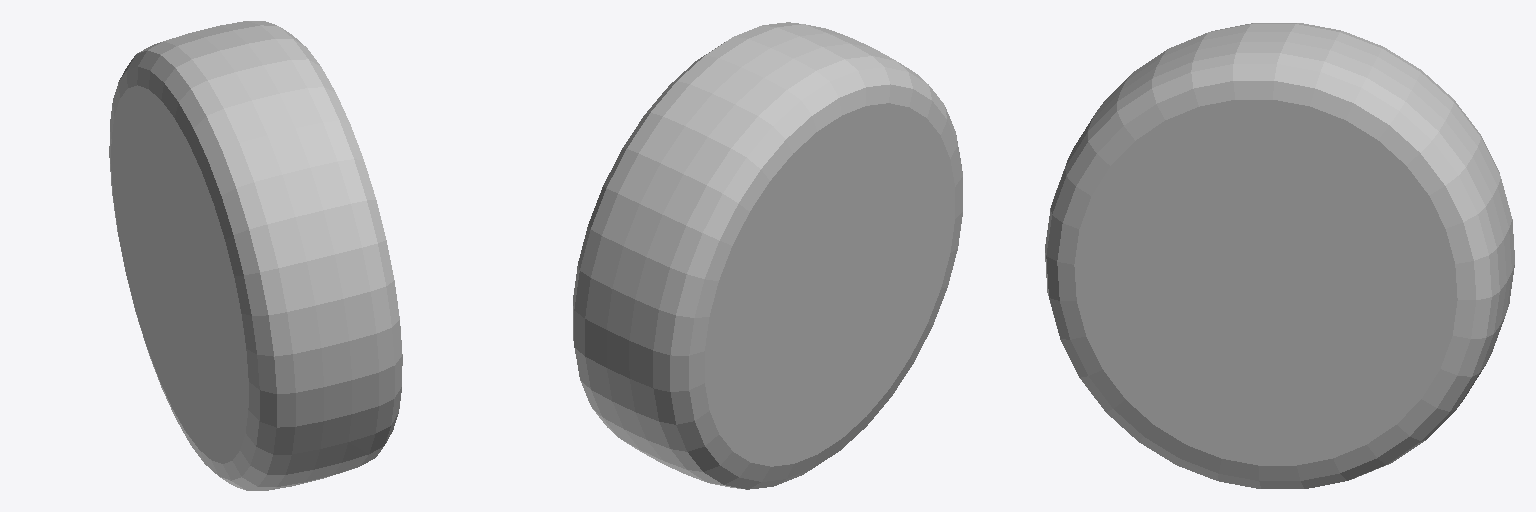
Rendered from trackpad_scroll_wheel.obj.
3 views of the same model, side by side, from view 1: azimuth 30°, elevation 25°; view 2: azimuth 150°, elevation 25°; view 3: azimuth 270°, elevation 25° (orthographic).
Visible parts, largest first — view 1: l_trackpad_scroll_wheel; view 2: l_trackpad_scroll_wheel; view 3: l_trackpad_scroll_wheel.
Boxes of the visible parts, box(x1,y1,x2,y2) form: l_trackpad_scroll_wheel: box(109, 21, 402, 490); l_trackpad_scroll_wheel: box(573, 22, 962, 489); l_trackpad_scroll_wheel: box(1045, 23, 1514, 488).
Bounding box in the file's own units: 0.0115 × 0.0229 × 0.023.